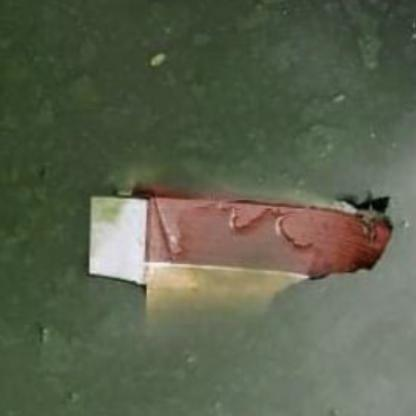Trash: (54, 189, 402, 334)
